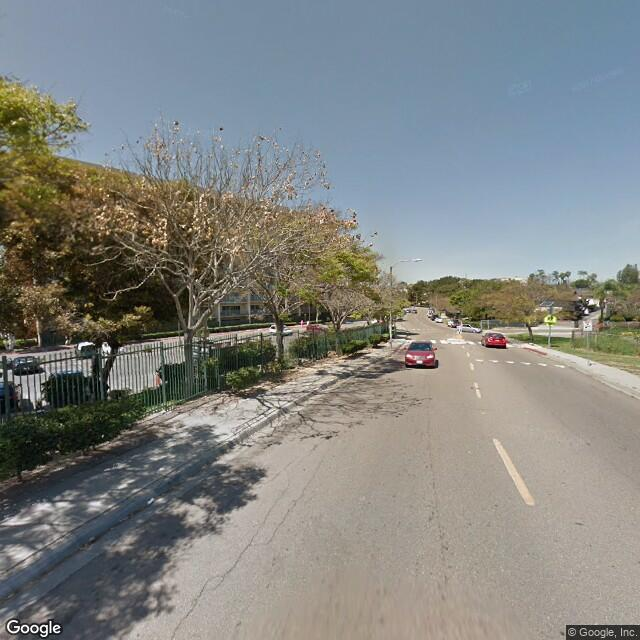litter: (143, 492, 164, 507)
